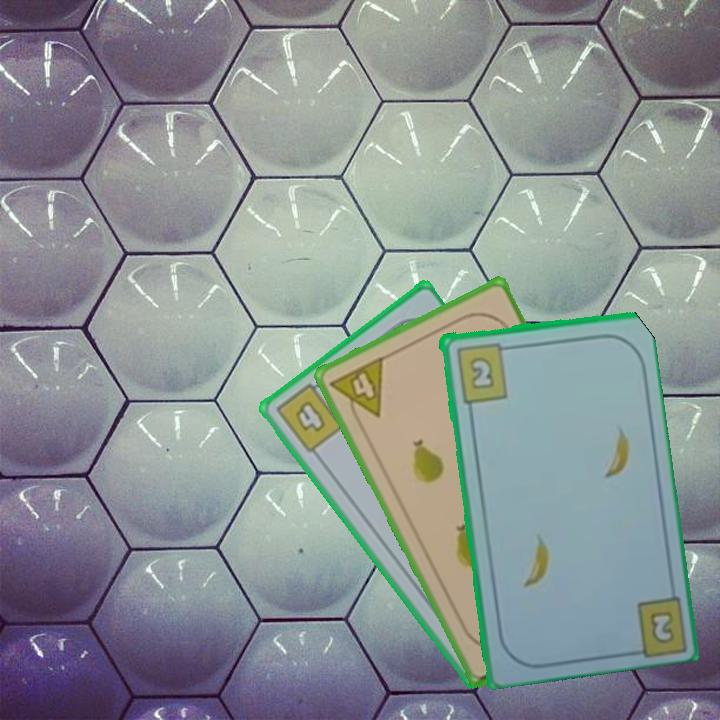2b: (452, 339, 514, 405), (646, 607, 678, 647)
4b: (271, 375, 346, 456)
4p: (326, 352, 387, 429)
